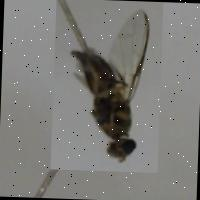Oriental-fruit-fly: (49, 0, 162, 173)
